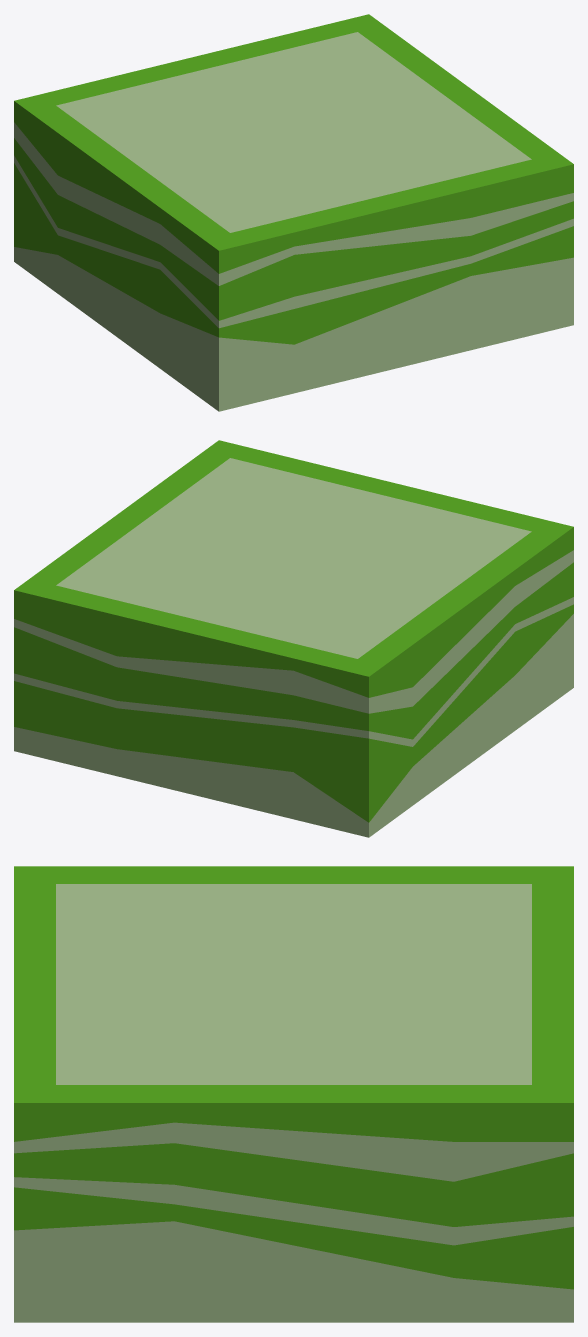
Rendered from Isl_9_Base.fbx.
3 renders of one model, top to bottom at view 1: azimuth 30°, elevation 25°; view 2: azimuth 150°, elevation 25°; view 3: azimuth 270°, elevation 25°, orthographic. The views are drawn at different scales.
Visible parts, largest first — view 1: Isl_9_Base; view 2: Isl_9_Base; view 3: Isl_9_Base.
Boxes of the visible parts, left/top/right/bottom form: Isl_9_Base: left=14, top=14, right=573, bottom=411; Isl_9_Base: left=14, top=440, right=573, bottom=837; Isl_9_Base: left=14, top=866, right=573, bottom=1322.
Size of the model in its own units: 2000 by 2000 by 866.
1 material, 1 textured.
